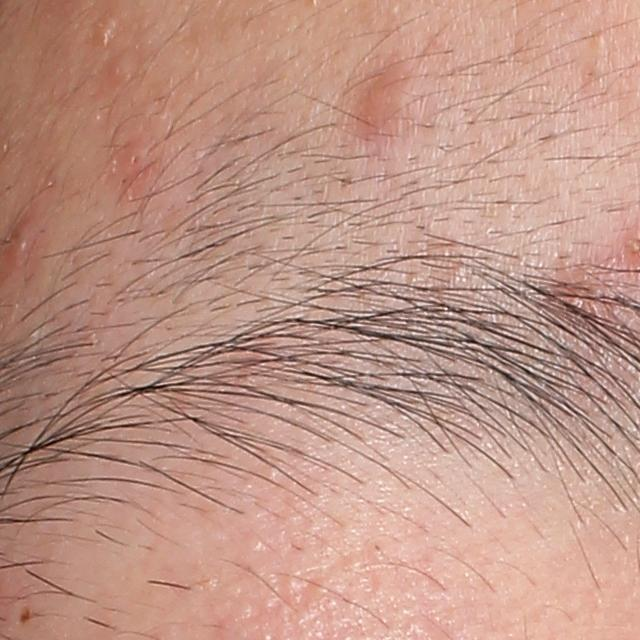comedo: (94, 18, 123, 45), (111, 56, 136, 83)
nevus: (19, 607, 32, 626)
papule: (358, 70, 414, 140)
